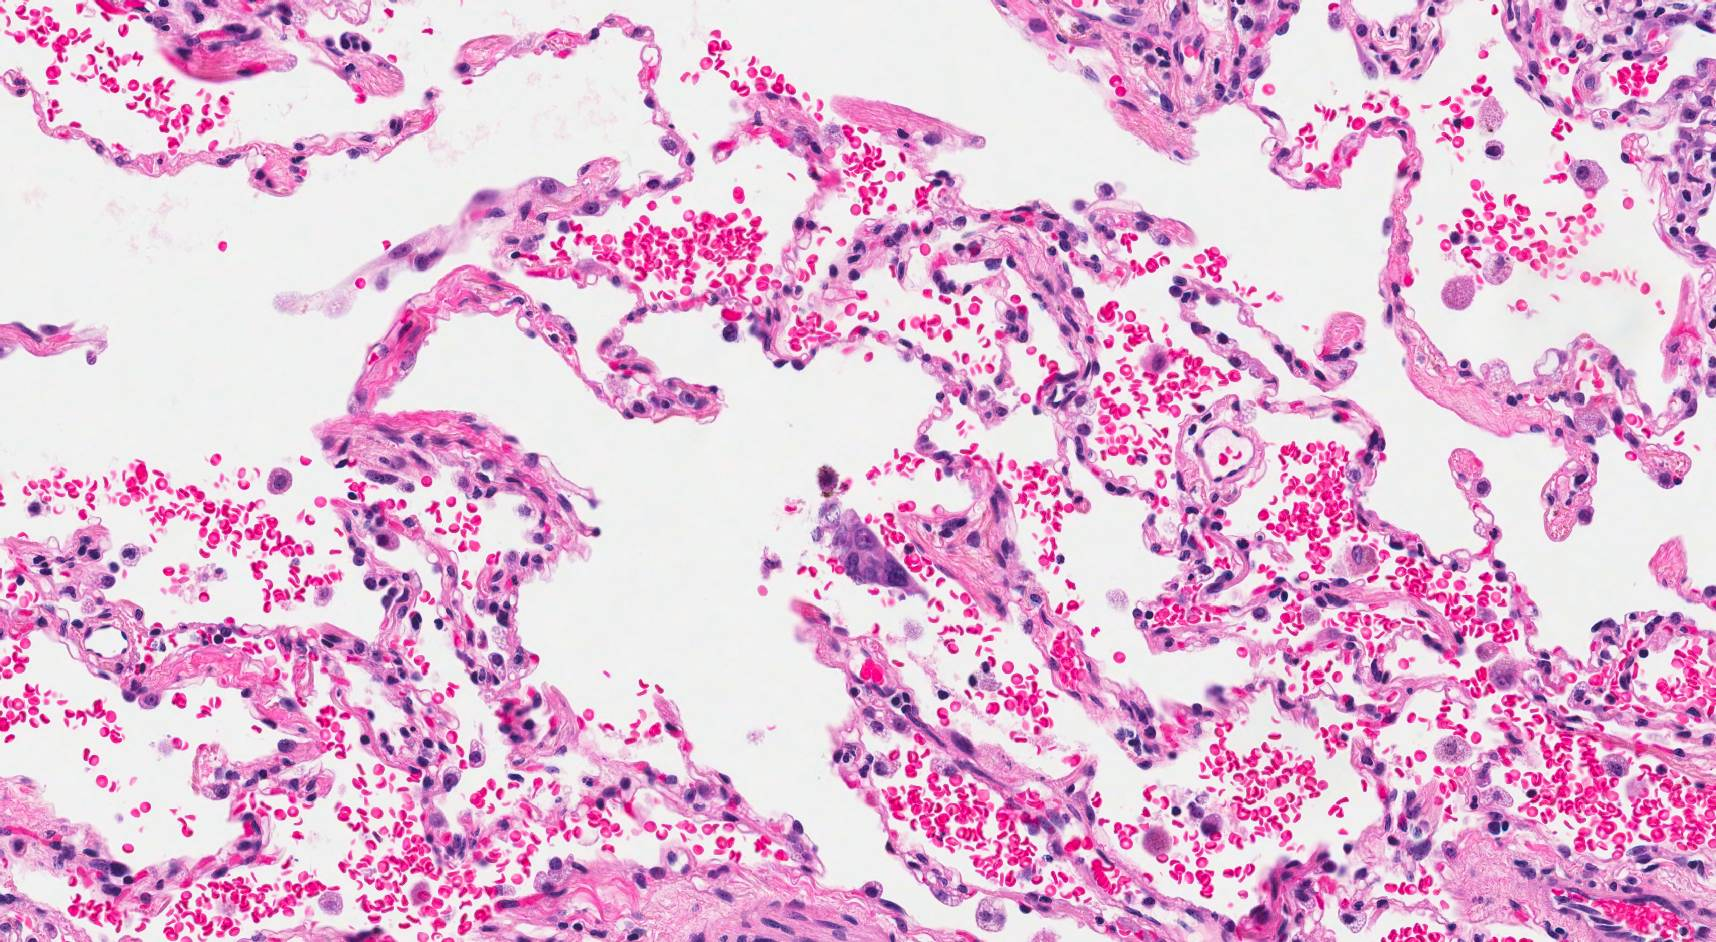stas: (813, 502, 925, 599)
